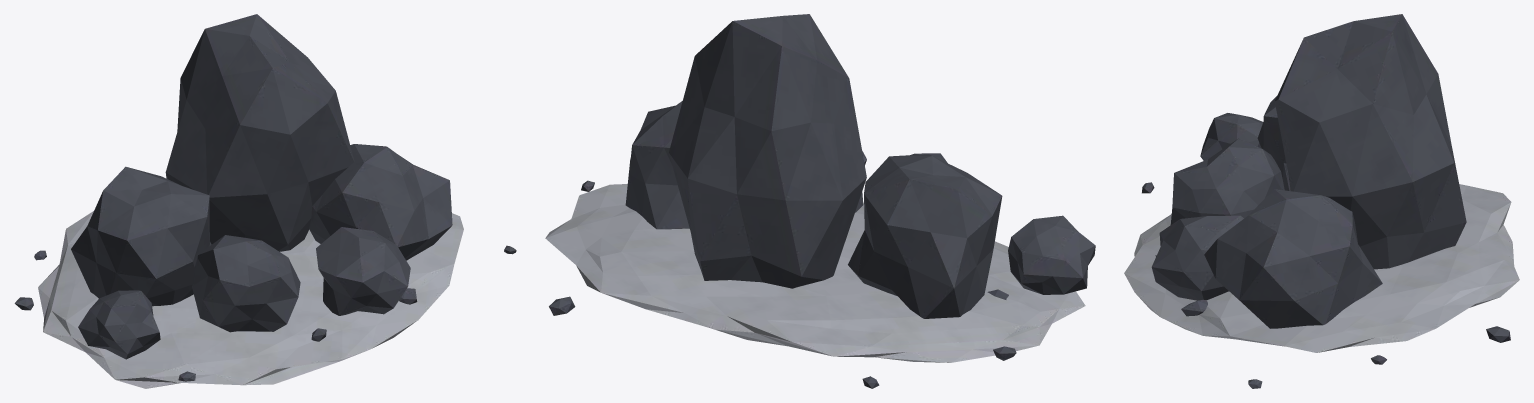
Rendered from boulders.glb.
3 views of the same model, side by side, from view 1: azimuth 30°, elevation 25°; view 2: azimuth 150°, elevation 25°; view 3: azimuth 270°, elevation 25° (orthographic). The views are drawn at different scales.
Parts seen in each view (by area): view 1: Boulder0, DustDrift, Boulder1, Boulder2, Boulder3, Boulder4, Boulder5; view 2: Boulder0, DustDrift, Boulder1, Boulder5, Boulder2; view 3: Boulder0, DustDrift, Boulder2, Boulder3, Boulder4, Boulder5, Boulder1.
Boxes of the visible parts, x1,y1,x2,y2 form: Boulder0: (165,14,354,251); DustDrift: (38,211,463,388); Boulder1: (71,166,211,306); Boulder2: (309,144,452,260); Boulder3: (192,235,300,332); Boulder4: (316,227,410,315); Boulder5: (78,290,160,359); Boulder0: (669,14,866,288); DustDrift: (545,184,1085,362); Boulder1: (848,154,1002,318); Boulder5: (1008,215,1095,294); Boulder2: (625,101,689,229); Boulder0: (1274,14,1466,269); DustDrift: (1124,184,1519,352); Boulder2: (1204,189,1382,328); Boulder3: (1170,138,1284,224); Boulder4: (1151,215,1243,300); Boulder5: (1200,113,1263,160); Boulder1: (1257,96,1290,190).
Size of the model in its own units: 5.02 by 2.84 by 3.66.
2 materials, 2 textured.
